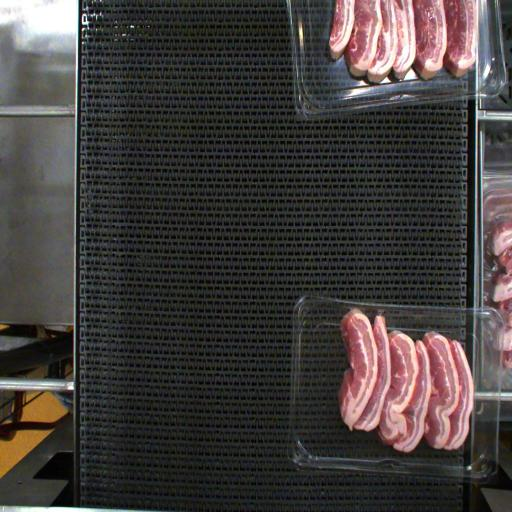packaging-error: (373, 302, 390, 334)
